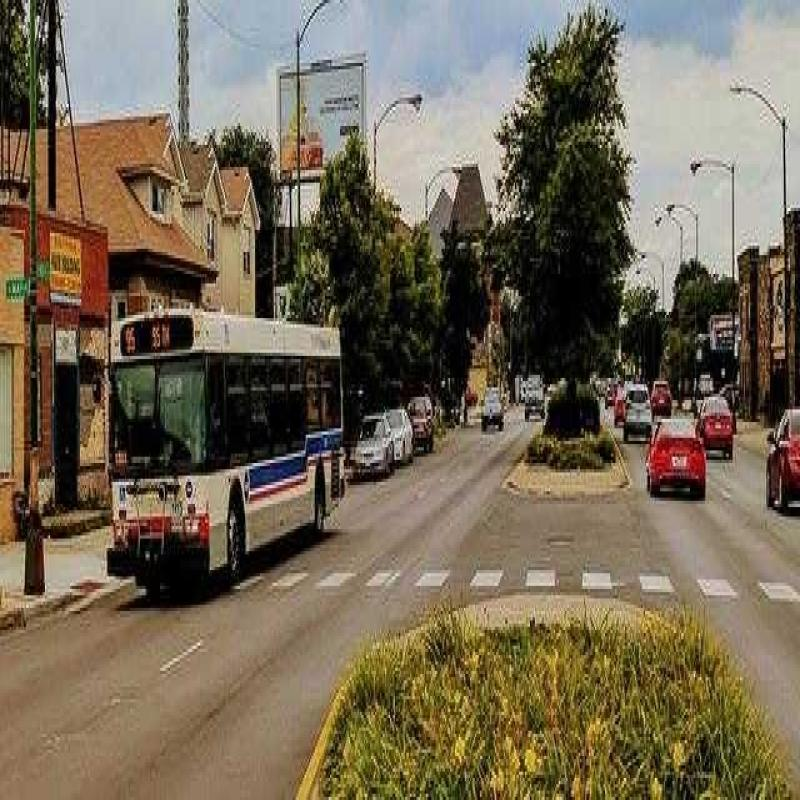bus: (102, 290, 352, 606)
